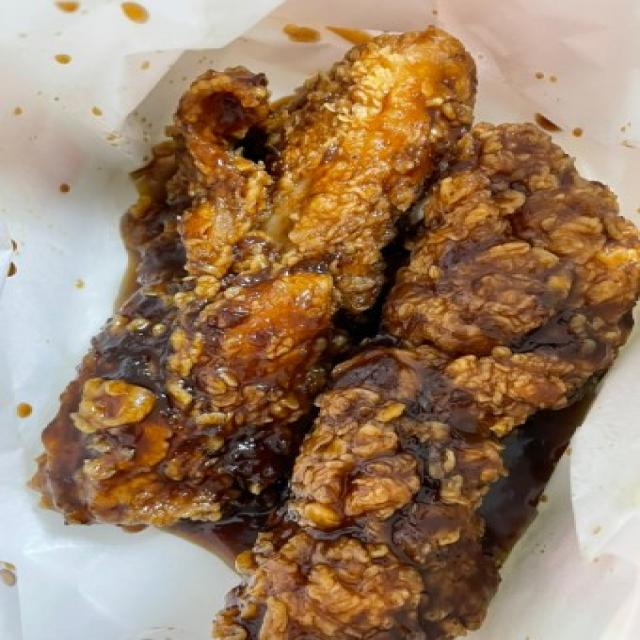Frango: (60, 14, 640, 640)
